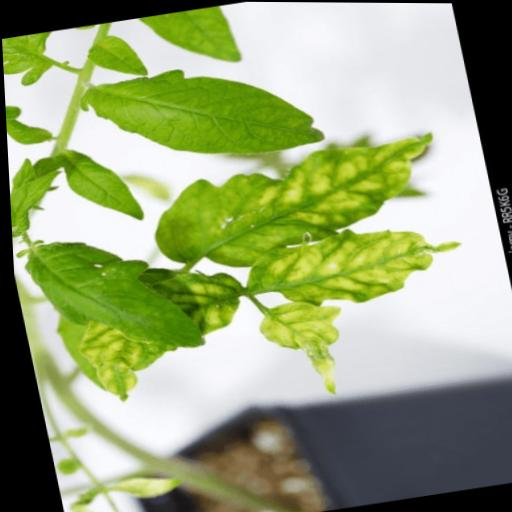Healthy: (65, 43, 326, 182), (16, 221, 201, 370), (45, 137, 143, 232)
Mosaic Virus: (132, 125, 459, 284), (59, 262, 258, 410), (230, 208, 470, 319), (244, 291, 354, 407)
